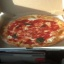basil: (32, 36, 46, 45), (11, 31, 18, 40), (25, 21, 34, 28)
pizza: (2, 15, 64, 49)
